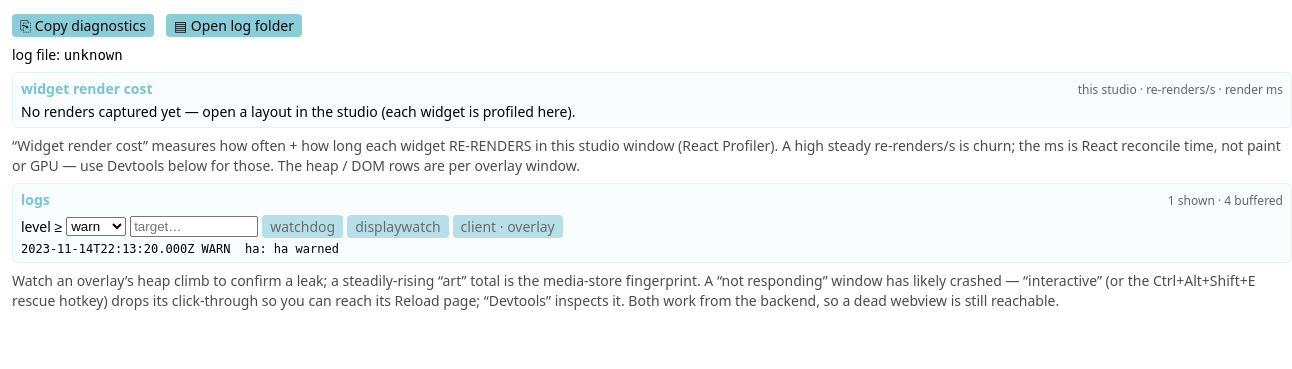
Test case: DiagnosticsPanel logs pane › shows warn+ from the backlog by default, and lets the level filter widen it
The image size is (1292, 369).
Expected: the text "2023-11-14T22:13:20.000Z WARN ha: ha warned" is shown, [21,242,339,256]
Expected: the text "debug noise" is not shown
Select "debug" in the dropdown named "Minimum log level". click: (96, 227)
box: [66,217,126,236]
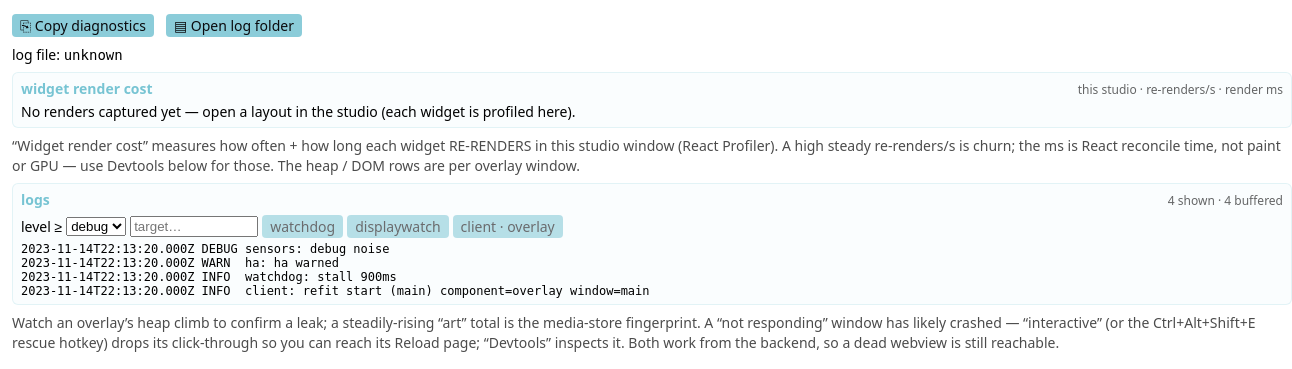
Now the text "2023-11-14T22:13:20.000Z DEBUG sensors: debug noise" is shown, box [21,242,390,256]
Now the text "2023-11-14T22:13:20.000Z INFO watchdog: stall 900ms" is shown, box [21,270,397,284]
